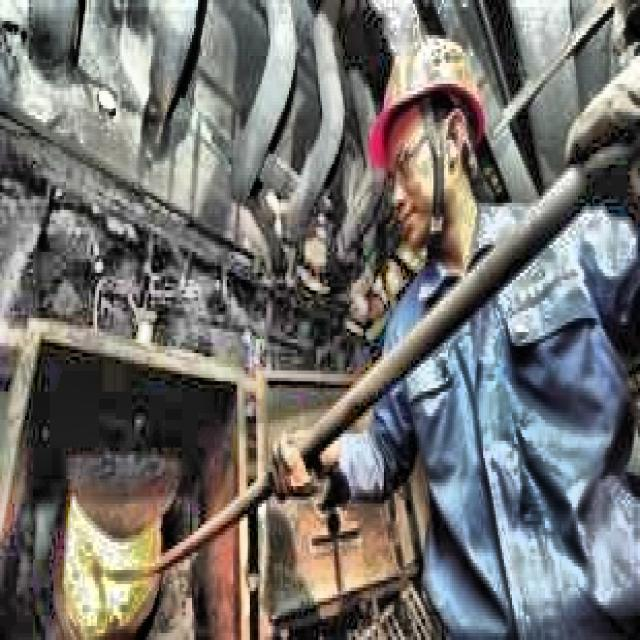helmet: (357, 21, 506, 266)
